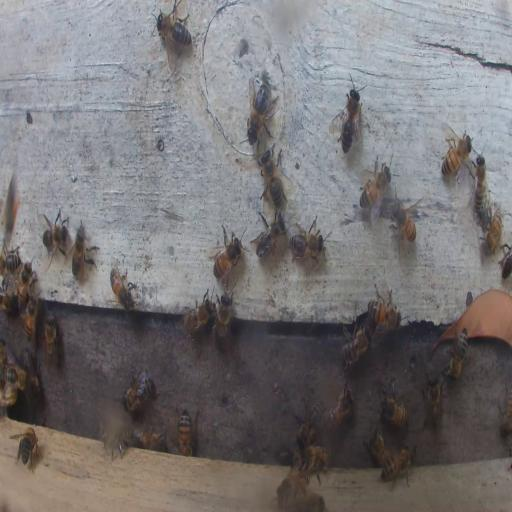nonpollenbee: (358, 157, 390, 223), (334, 80, 364, 150), (246, 78, 277, 139), (211, 224, 244, 280), (252, 210, 286, 260), (260, 149, 286, 213), (157, 5, 193, 51), (440, 129, 472, 180), (40, 207, 70, 261), (289, 216, 325, 261), (389, 194, 420, 246), (122, 367, 154, 412), (381, 446, 415, 488), (70, 219, 94, 277), (325, 384, 354, 432), (297, 446, 331, 486), (11, 425, 40, 471), (340, 324, 371, 367), (109, 261, 135, 311), (181, 295, 212, 334), (423, 375, 444, 429), (445, 328, 467, 378), (365, 429, 389, 467), (368, 299, 398, 329), (380, 394, 407, 427), (483, 208, 502, 254), (214, 293, 232, 341), (23, 348, 41, 396), (276, 473, 300, 509), (474, 155, 487, 218), (15, 262, 34, 304), (499, 382, 512, 440), (23, 293, 38, 342), (44, 313, 58, 365), (177, 410, 192, 456), (296, 415, 318, 446), (138, 425, 165, 450), (2, 364, 28, 388), (0, 285, 16, 312), (499, 245, 512, 278), (278, 448, 300, 467), (3, 250, 21, 271)
pollenbee: (3, 170, 23, 242)
